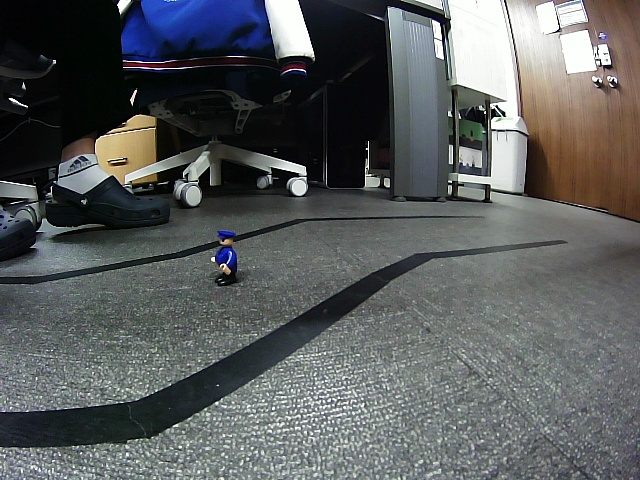person: (212, 229, 238, 287)
